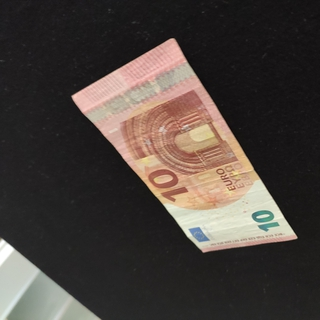10EUROFront: (70, 37, 298, 253)
